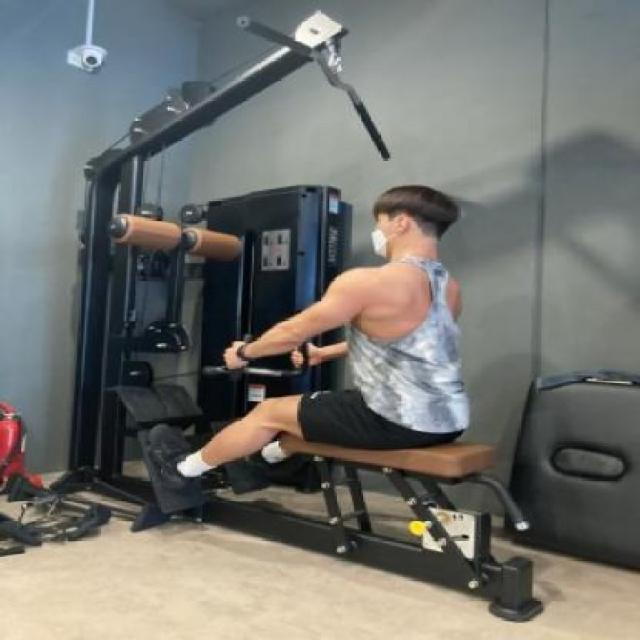Seated Cable Rows: (0, 5, 589, 629)
